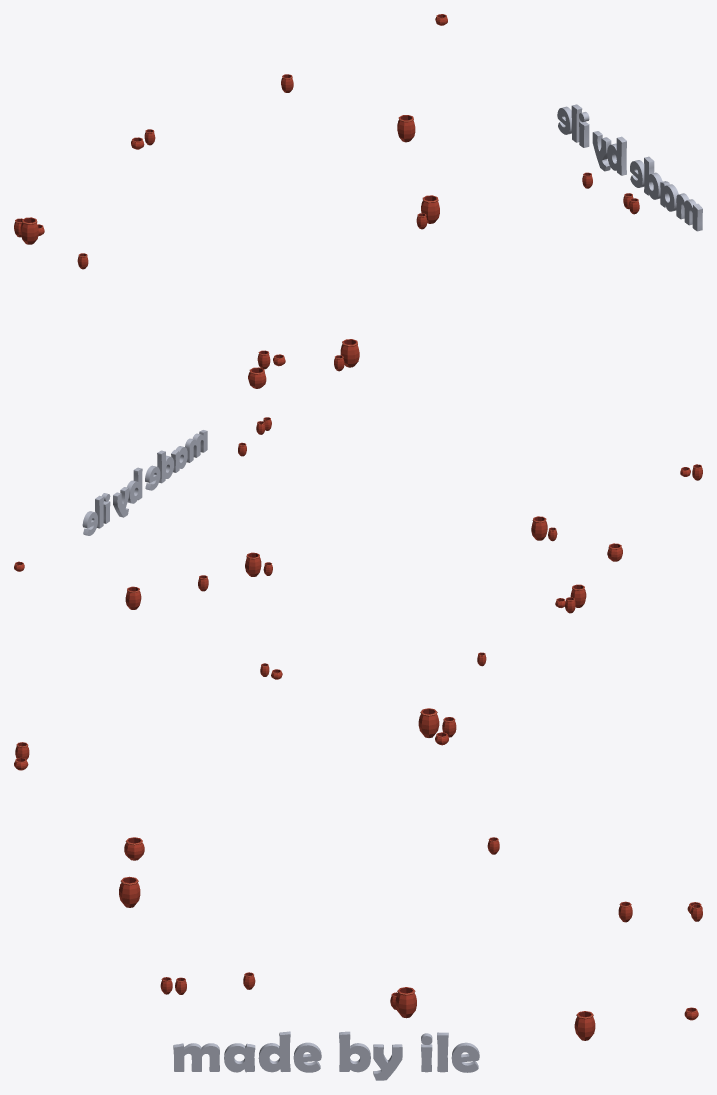
Rendered from pots.glb.
The picture shows the model from 3 angles, top to bottom: view 1: azimuth 30°, elevation 25°; view 2: azimuth 150°, elevation 25°; view 3: azimuth 270°, elevation 25°; orthographic projection. The views are drawn at different scales.
Visible parts, largest first — view 1: signed; view 2: signed; view 3: signed.
Part boxes in pixels (x1=…): signed: x1=557, y1=104, x2=702, y2=231; signed: x1=82, y1=430, x2=207, y2=535; signed: x1=173, y1=1031, x2=479, y2=1080.
Size of what is drawn, in the model's own units: 39.66 by 6.05 by 38.53.
17 materials, 16 textured.
